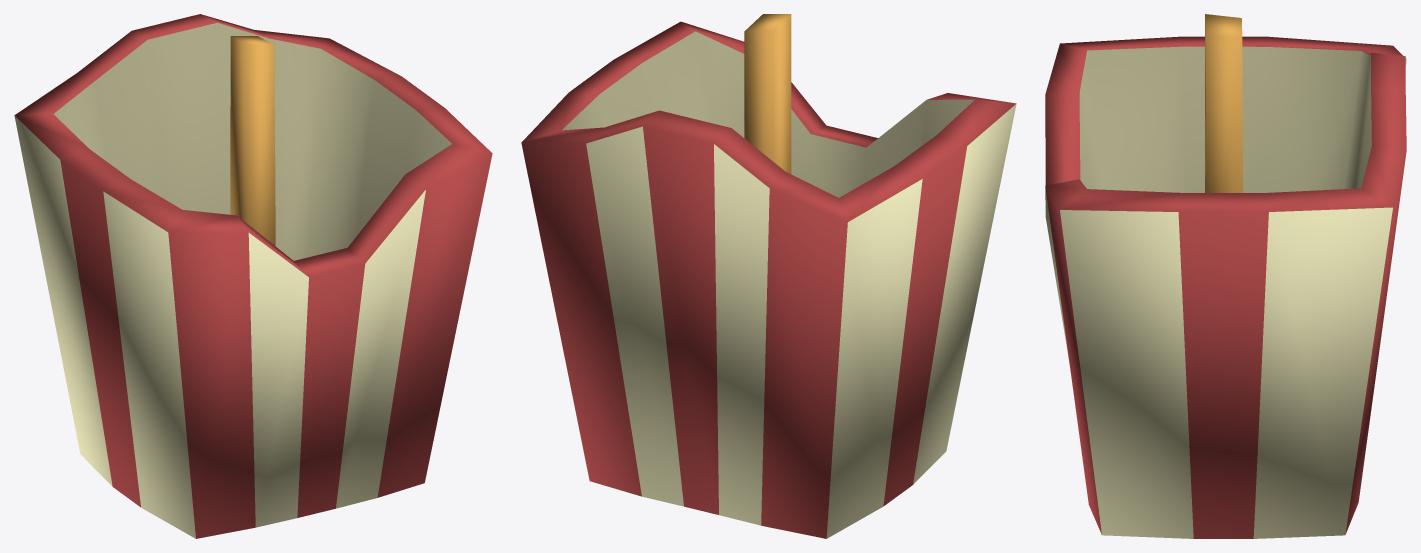
Rendered from SpaceFries.fbx.
The picture shows the model from 3 angles, left to right: view 1: azimuth 30°, elevation 25°; view 2: azimuth 150°, elevation 25°; view 3: azimuth 270°, elevation 25°; orthographic projection. The views are drawn at different scales.
Parts seen in each view (by area): view 1: SpaceFry_Bucket, SpaceFry; view 2: SpaceFry_Bucket, SpaceFry; view 3: SpaceFry_Bucket, SpaceFry.
Part boxes in pixels (<box>): SpaceFry_Bucket: <box>14,14,492,538</box>; SpaceFry: <box>230,36,275,245</box>; SpaceFry_Bucket: <box>521,21,1016,538</box>; SpaceFry: <box>744,14,791,173</box>; SpaceFry_Bucket: <box>1045,36,1406,538</box>; SpaceFry: <box>1205,14,1243,192</box>.
Size of the model in its own units: 0.2374 by 0.2878 by 0.2068.
